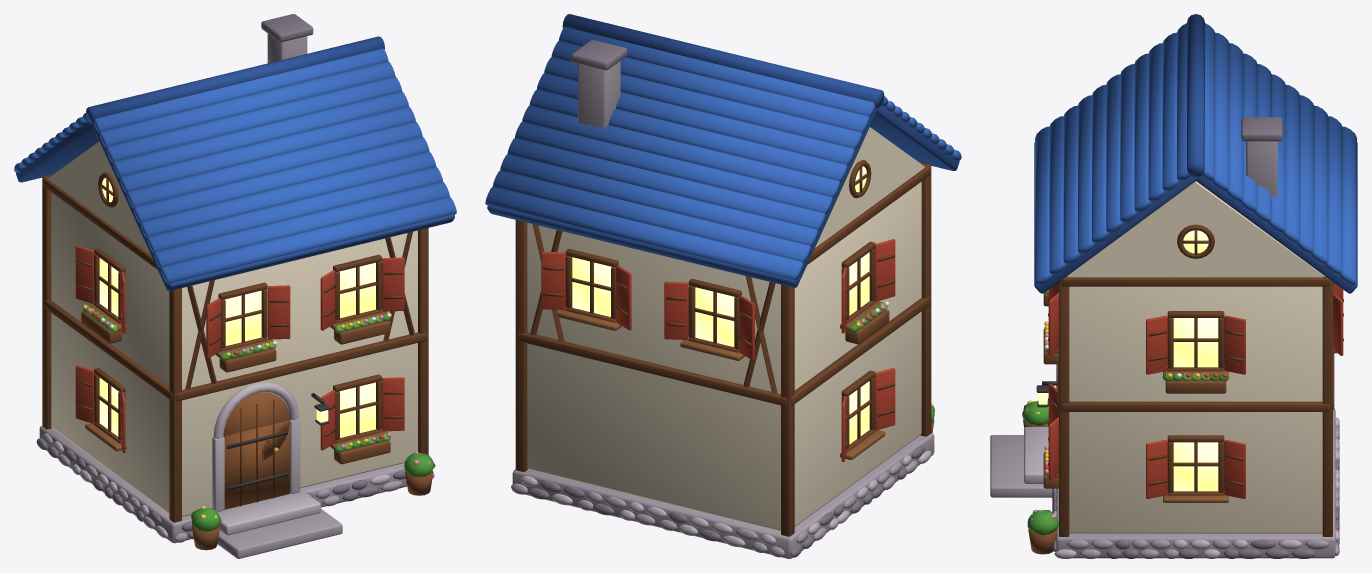
The model's file is bld_house_blue_v02.glb.
The picture shows the model from 3 angles, left to right: view 1: azimuth 30°, elevation 25°; view 2: azimuth 150°, elevation 25°; view 3: azimuth 270°, elevation 25°; orthographic projection. The views are drawn at different scales.
Parts seen in each view (by area): view 1: bld_house_blue_v02; view 2: bld_house_blue_v02; view 3: bld_house_blue_v02.
Boxes of the visible parts, left/top/right/bottom form: bld_house_blue_v02: left=14, top=14, right=456, bottom=558; bld_house_blue_v02: left=485, top=14, right=961, bottom=558; bld_house_blue_v02: left=990, top=14, right=1357, bottom=558.
Bounding box in the file's own units: 6.6 × 8.6 × 6.97.
2 materials, 1 textured.
